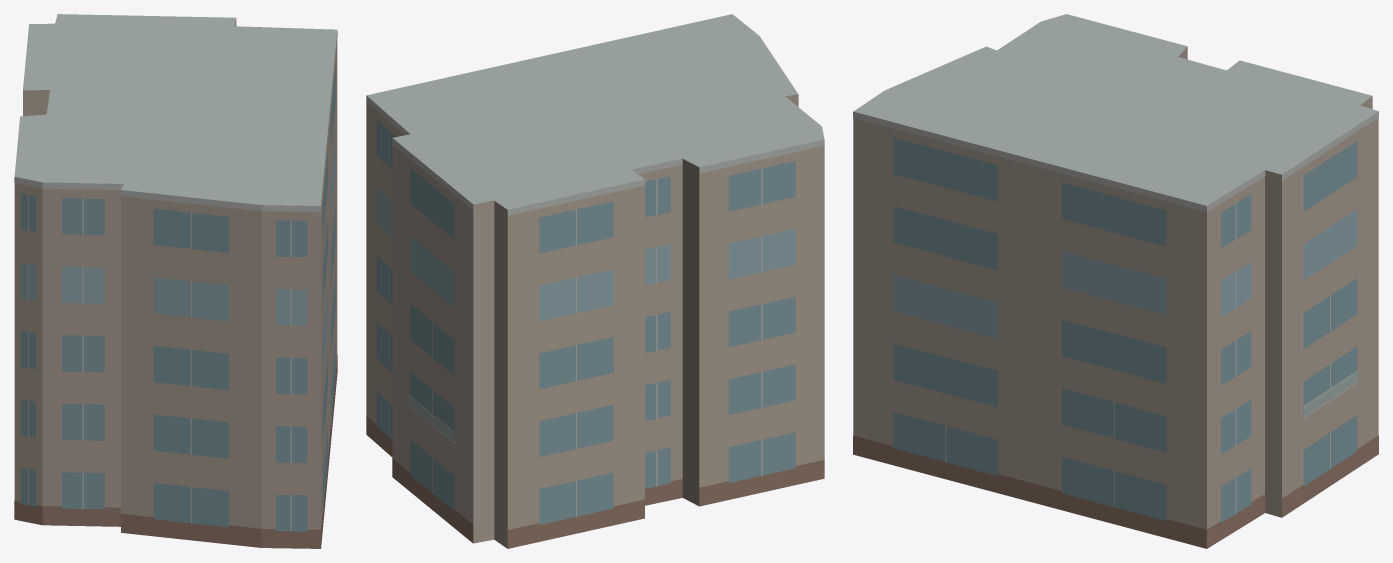
Rendered from survey-upis-33029371.glb.
The picture shows the model from 3 angles, left to right: view 1: azimuth 30°, elevation 25°; view 2: azimuth 150°, elevation 25°; view 3: azimuth 270°, elevation 25°; orthographic projection.
Visible parts, largest first — view 1: survey-upis-33029371.tmp; view 2: survey-upis-33029371.tmp; view 3: survey-upis-33029371.tmp.
Part boxes in pixels (left/top/right/bottom): survey-upis-33029371.tmp: left=14, top=14, right=337, bottom=548; survey-upis-33029371.tmp: left=366, top=14, right=824, bottom=548; survey-upis-33029371.tmp: left=853, top=14, right=1378, bottom=548.
Bounding box in the file's own units: 16.12 × 13.43 × 18.66.
